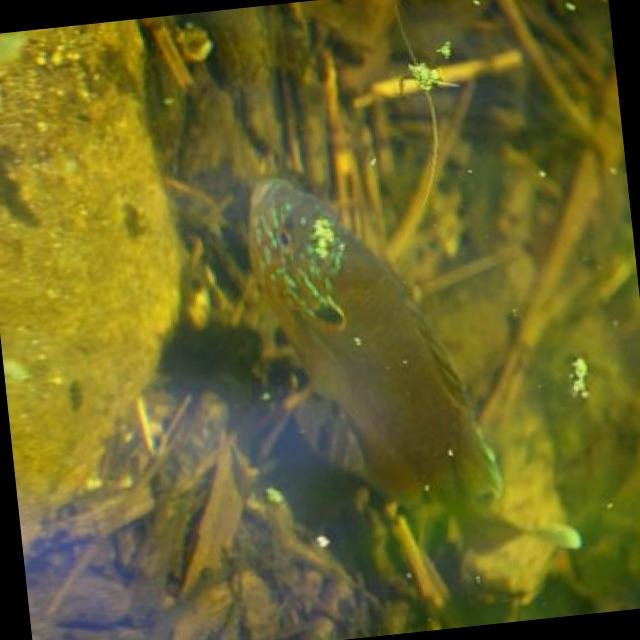Gunes Levregi: (232, 145, 580, 596)
